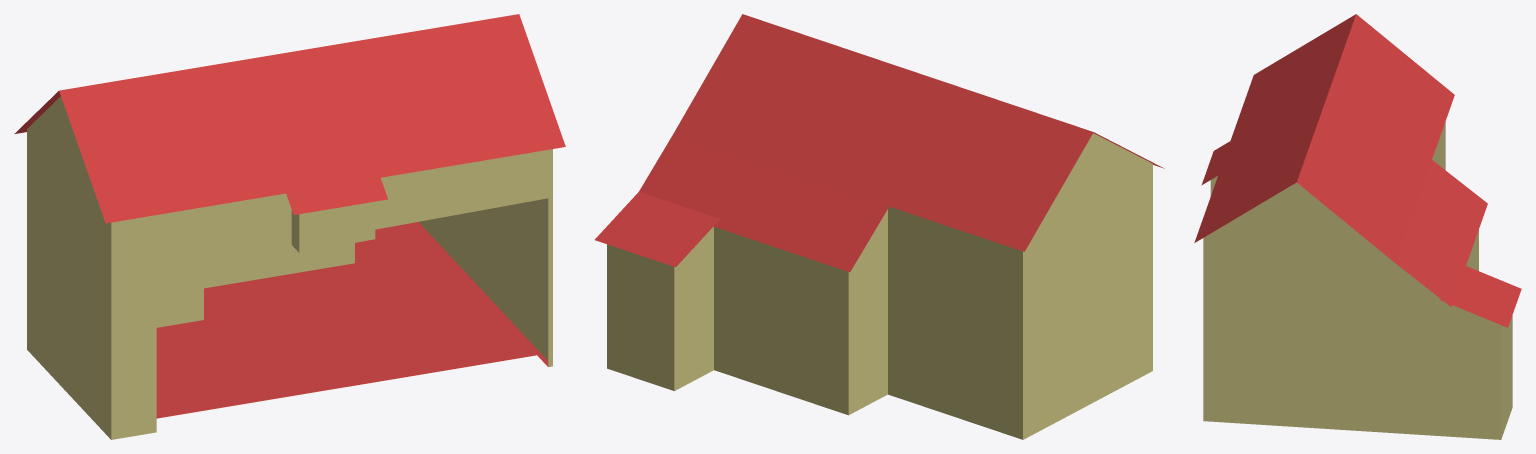
3 views of the same model, side by side, from view 1: azimuth 30°, elevation 25°; view 2: azimuth 150°, elevation 25°; view 3: azimuth 270°, elevation 25° (orthographic). The views are drawn at different scales.
Bounding box in the file's own units: 27.79 × 20.44 × 17.09.
